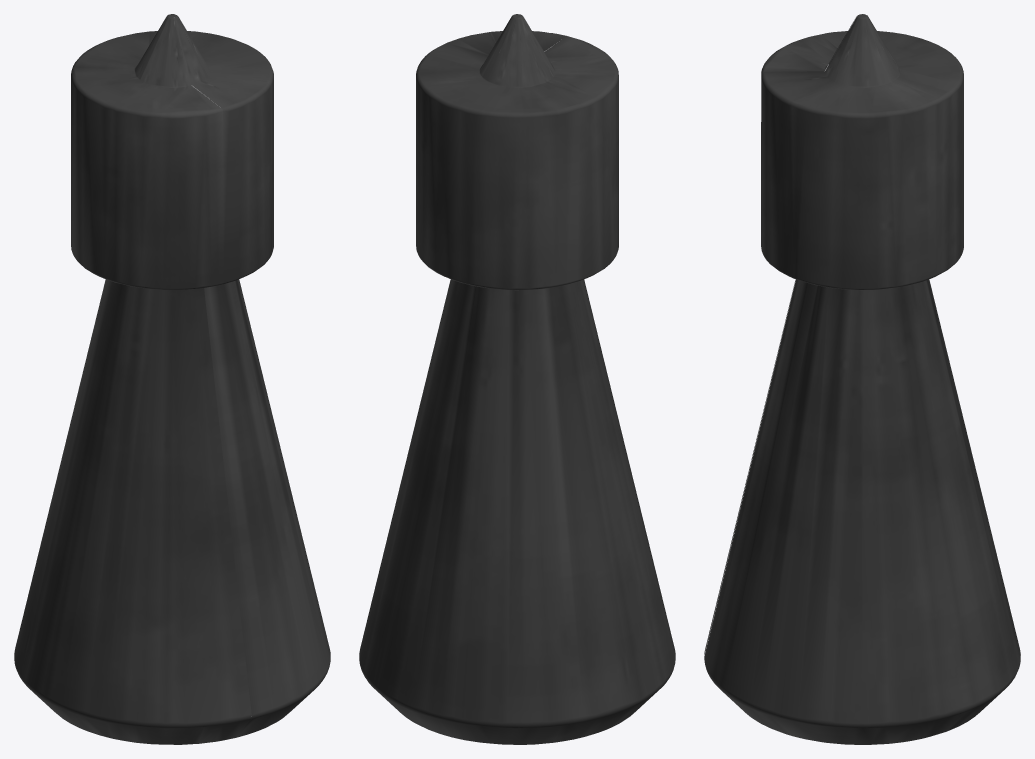
The model's file is 02_dama_cerna.glb.
3 views of the same model, side by side, from view 1: azimuth 30°, elevation 25°; view 2: azimuth 150°, elevation 25°; view 3: azimuth 270°, elevation 25° (orthographic).
Visible parts, largest first — view 1: 02_dama_cerna; view 2: 02_dama_cerna; view 3: 02_dama_cerna.
Part boxes in pixels (<box>): 02_dama_cerna: <box>14,14,330,744</box>; 02_dama_cerna: <box>359,14,675,744</box>; 02_dama_cerna: <box>704,14,1020,744</box>.
Bounding box in the file's own units: 0.0349 × 0.0822 × 0.0349.
1 material, 1 textured.
